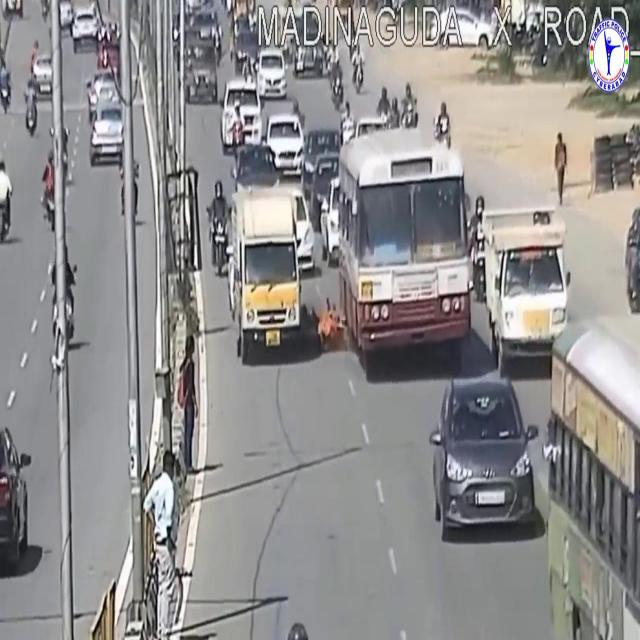accident: (225, 127, 471, 382)
non_accident: (175, 23, 311, 181), (64, 2, 124, 170)
